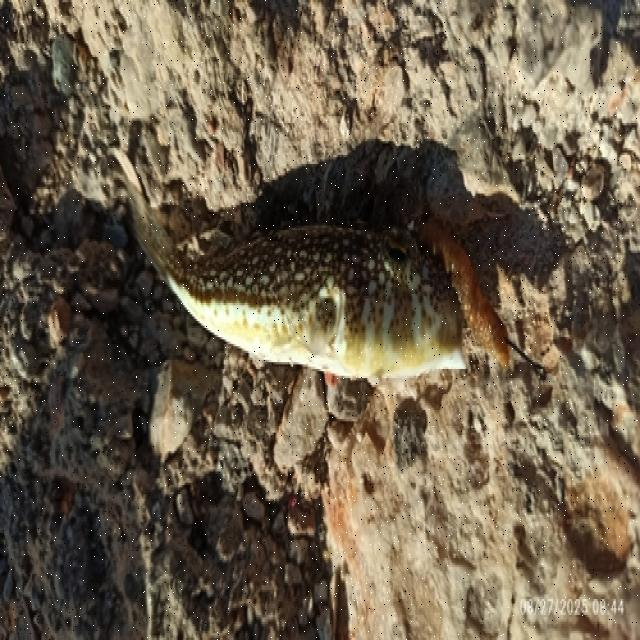Balik: (114, 153, 465, 380)
